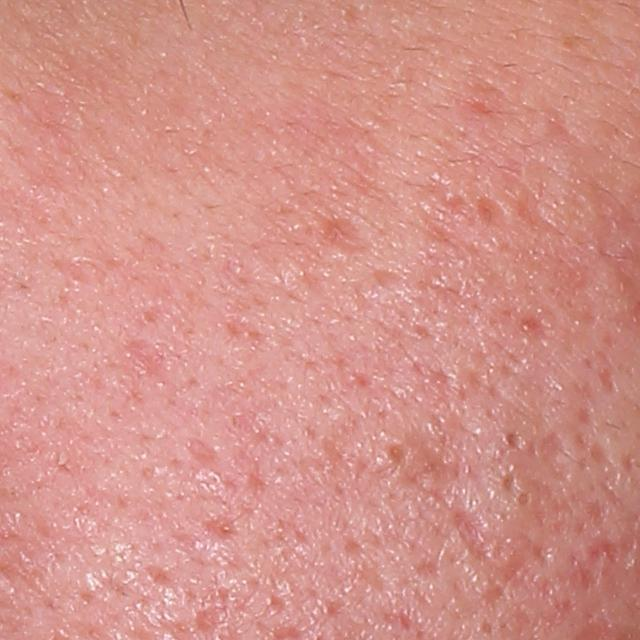atrophic_scar: (413, 173, 510, 261), (511, 155, 563, 234), (452, 508, 517, 571), (315, 215, 383, 254), (584, 434, 615, 470), (368, 268, 405, 296), (598, 364, 621, 403), (573, 402, 598, 429)
comedo: (383, 441, 409, 464), (514, 489, 532, 510)
